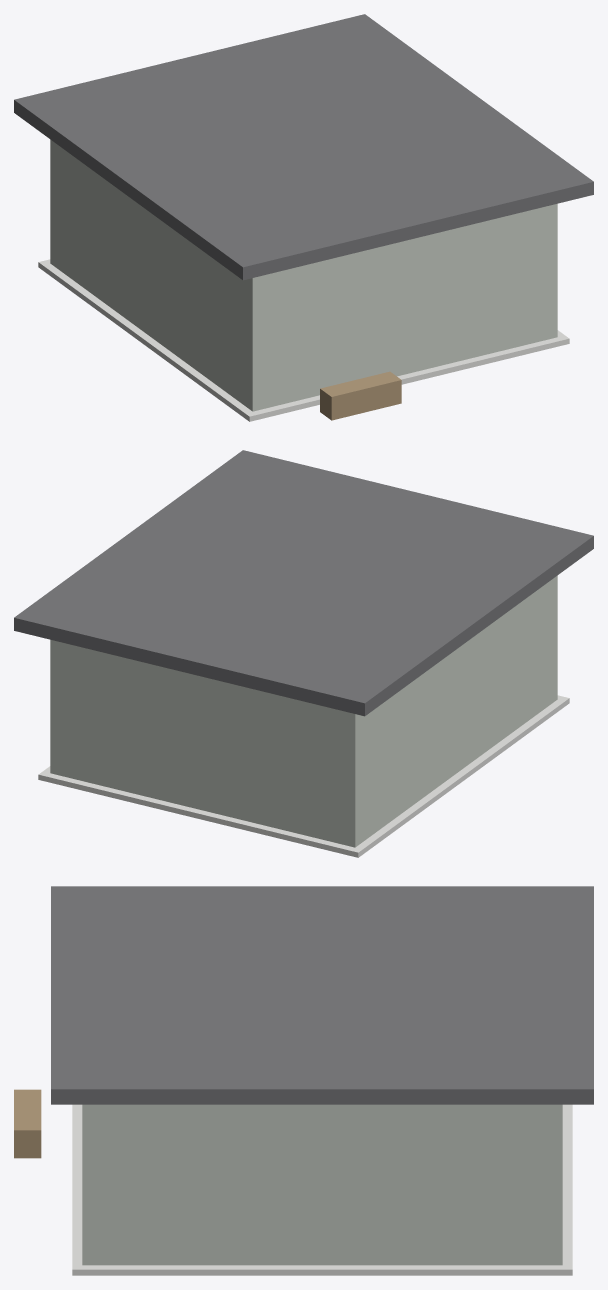
The model's file is fixture_slab_box_lod0.glb.
The picture shows the model from 3 angles, top to bottom: view 1: azimuth 30°, elevation 25°; view 2: azimuth 150°, elevation 25°; view 3: azimuth 270°, elevation 25°; orthographic projection. The views are drawn at different scales.
Visible parts, largest first — view 1: fixture_roof, fixture_walls, fixture_slab, fixture_bench; view 2: fixture_roof, fixture_walls, fixture_slab; view 3: fixture_roof, fixture_walls, fixture_slab, fixture_bench.
Part boxes in pixels (x1,y1,x2,y2): fixture_roof: (14, 14, 593, 280); fixture_walls: (50, 139, 557, 411); fixture_slab: (38, 259, 569, 421); fixture_bench: (320, 371, 401, 420); fixture_roof: (14, 450, 593, 716); fixture_walls: (50, 575, 557, 847); fixture_slab: (38, 695, 569, 857); fixture_roof: (51, 886, 593, 1104); fixture_walls: (82, 1104, 562, 1265); fixture_slab: (72, 1104, 572, 1275); fixture_bench: (14, 1089, 41, 1158).
Size of the model in its own units: 7.02 by 3.15 by 8.47.
